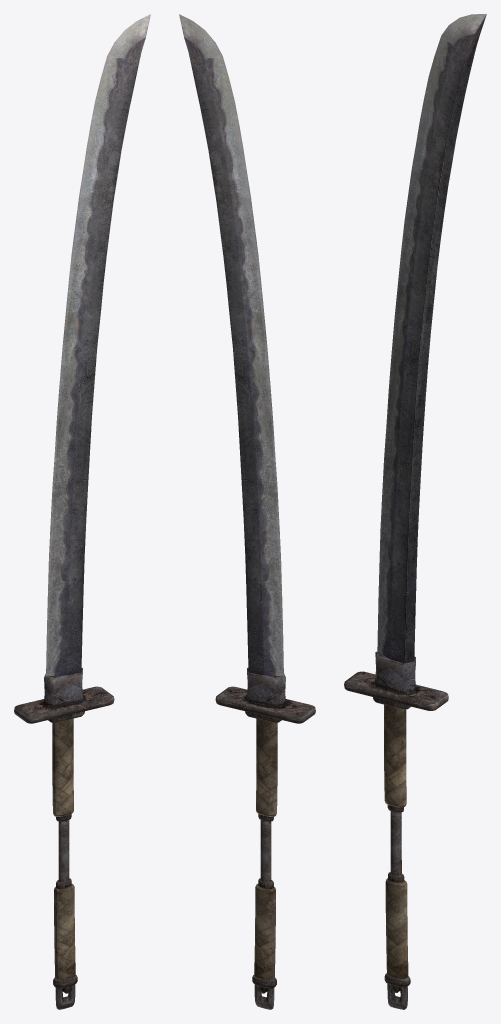
File: bs_swo001.obj
The picture shows the model from 3 angles, left to right: view 1: azimuth 30°, elevation 25°; view 2: azimuth 150°, elevation 25°; view 3: azimuth 330°, elevation 25°; orthographic projection. The views are drawn at different scales.
Visible parts, largest first — view 1: bs_swo001_000_LOD_1; view 2: bs_swo001_000_LOD_1; view 3: bs_swo001_000_LOD_1.
Boxes of the visible parts, <box> form: bs_swo001_000_LOD_1: <box>14,14,150,1009</box>; bs_swo001_000_LOD_1: <box>179,14,315,1009</box>; bs_swo001_000_LOD_1: <box>344,14,486,1009</box>.
Size of the model in its own units: 40.33 by 287 by 8.86.
